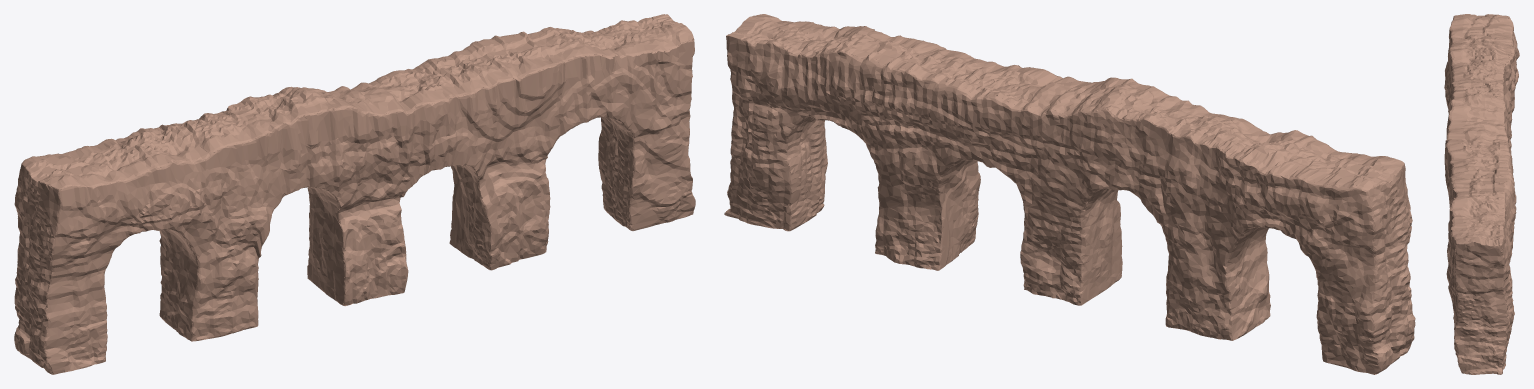
The model's file is Archway_Multiple_01_LOD1.glb.
3 renders of one model, left to right at view 1: azimuth 30°, elevation 25°; view 2: azimuth 150°, elevation 25°; view 3: azimuth 270°, elevation 25°, orthographic. The views are drawn at different scales.
Parts seen in each view (by area): view 1: Archway; view 2: Archway; view 3: Archway.
Part boxes in pixels (box(x1,y1,x2,y2)): Archway: box(14, 14, 695, 374); Archway: box(724, 14, 1415, 374); Archway: box(1444, 14, 1519, 374).
Bounding box in the file's own units: 8.82 × 2.64 × 1.22.
